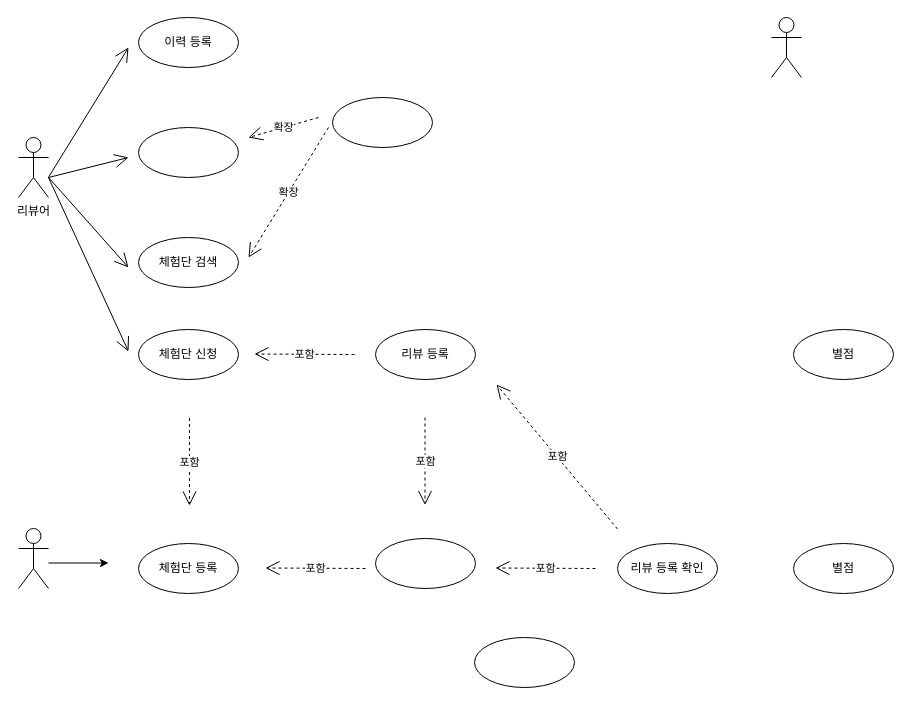
This 911x705 diagram has some shape labels left out. The shapes that lost their labels are listed below. From the top down, each one's centre as x and y in pixels, then its label:
At pixel 786 47: "관리자".
At pixel 382 122: "체험단 상세 조회".
At pixel 188 152: "체험단 목록 조회".
At pixel 33 558: "광고주".
At pixel 425 563: "리뷰어 선정".
